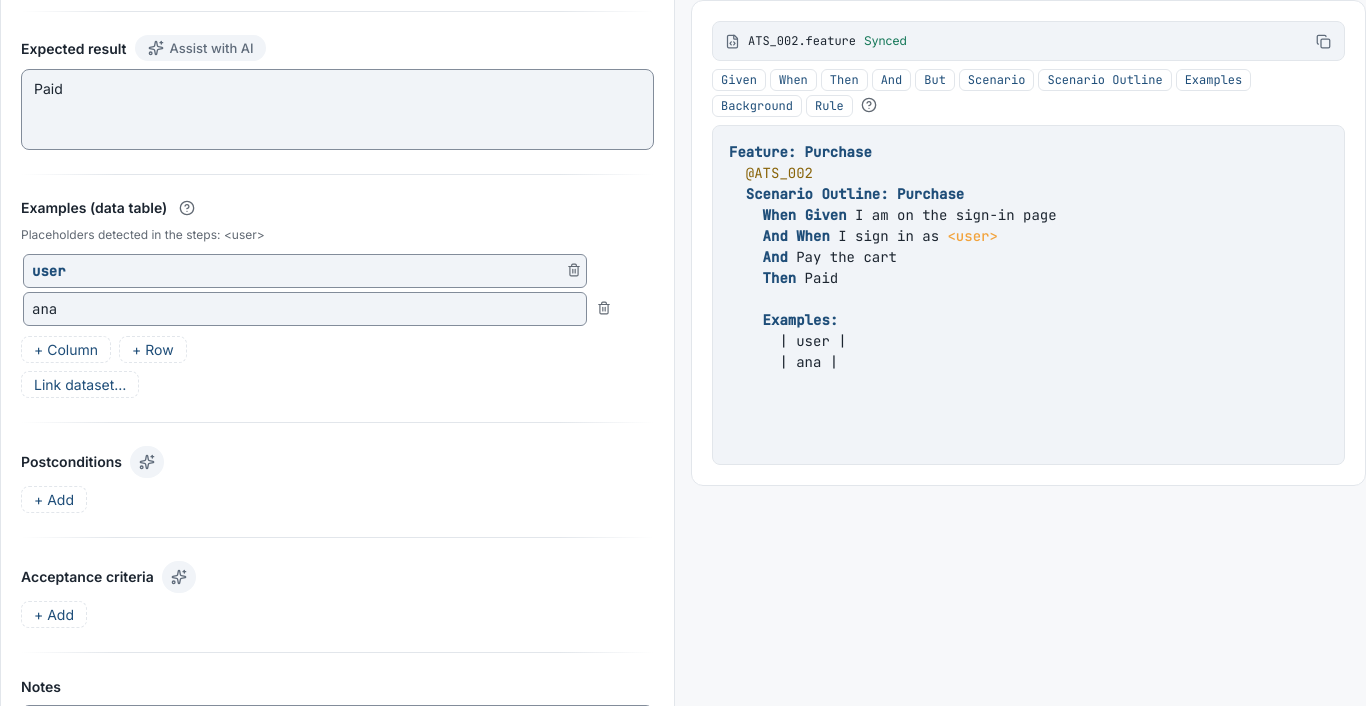
Test: a dataset bound to the Examples table (boceto 6) › «Link dataset…» binds it and shows the table read-only
(page scrolled)
Click the button "Link dataset…". click: (80, 385)
box: x1=21 y1=371 x2=139 y2=398
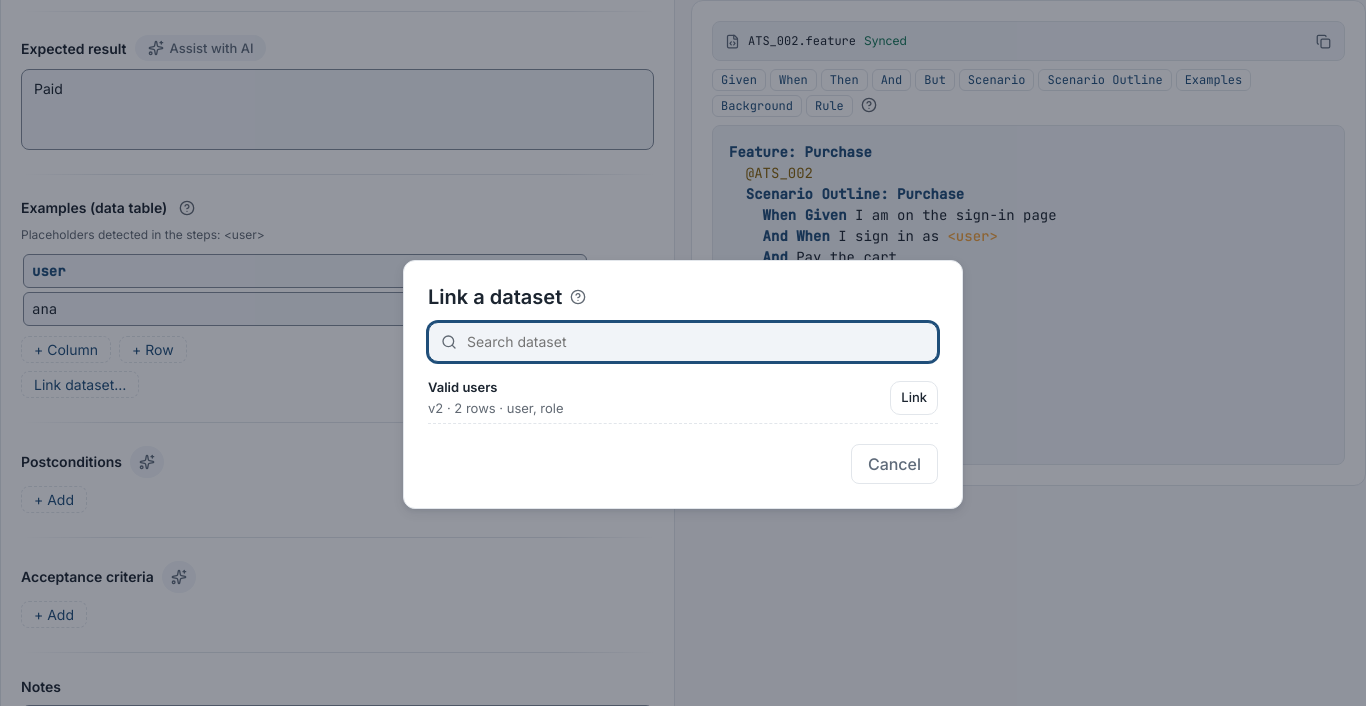
Click the button named "Link · Valid users". click: (914, 398)
box: x1=890 y1=381 x2=938 y2=415
(page scrolled)
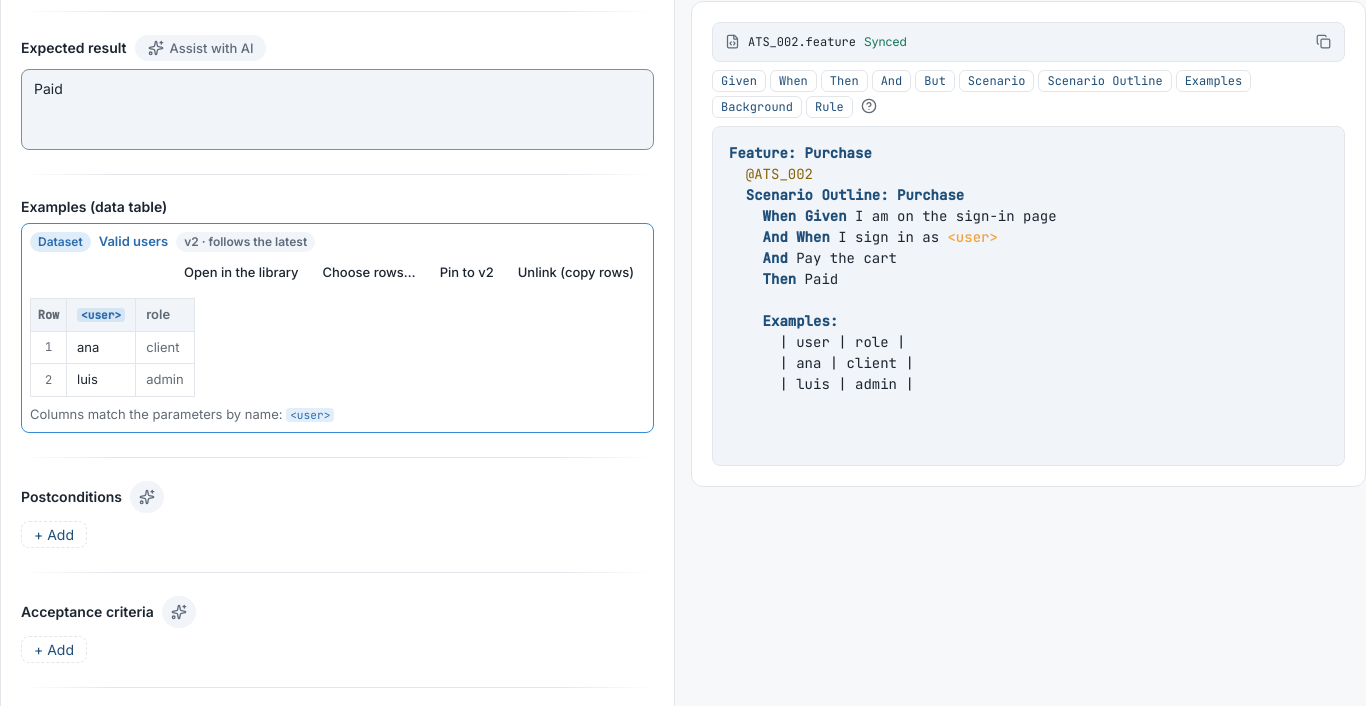
Check: the number of rows is 3, box x1=30 y1=299 x2=194 y2=331; x1=30 y1=331 x2=194 y2=364; x1=30 y1=364 x2=194 y2=396
Check: the button "Unlink (copy rows)" is shown
# «Unlink (copy rows)» keeps the rows as the case's own, editable again.
Click the button "Unlink (copy rows)". click: (576, 273)
box: x1=507 y1=256 x2=645 y2=290
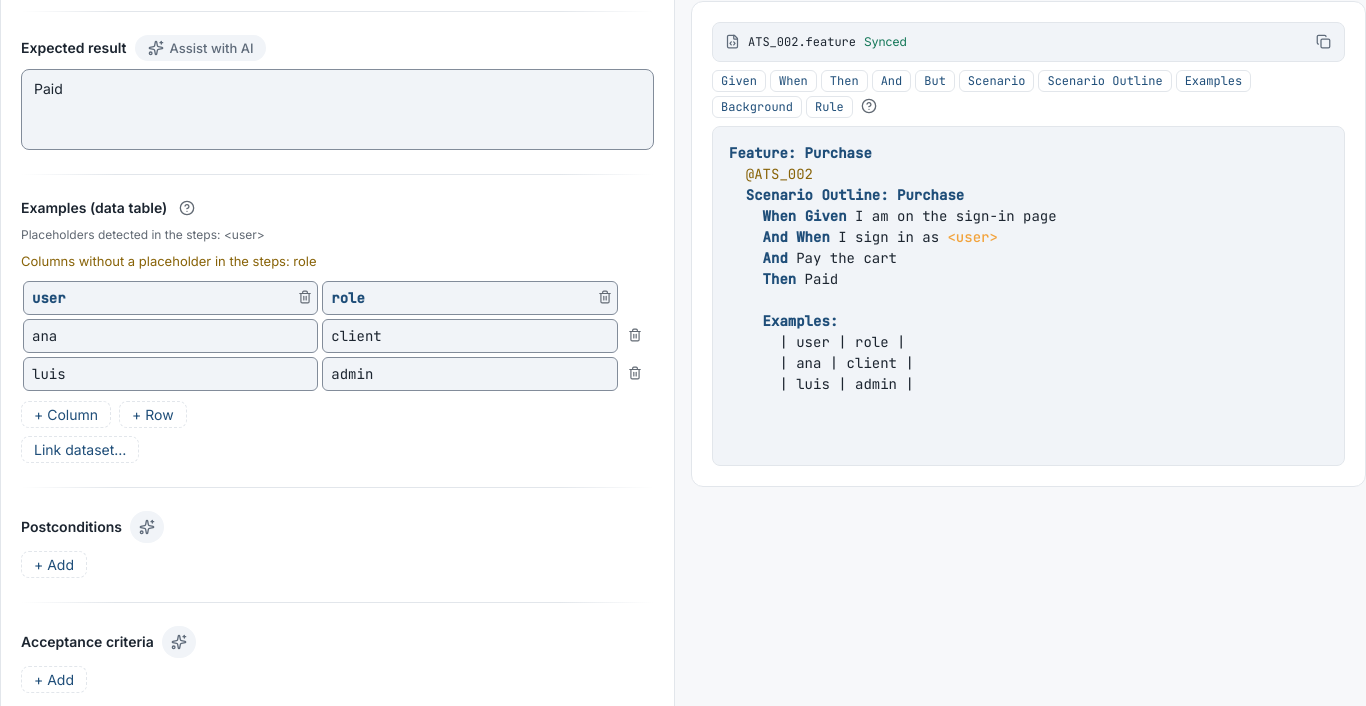
Check: the field showing "luis" is shown, box x1=23 y1=357 x2=318 y2=391
